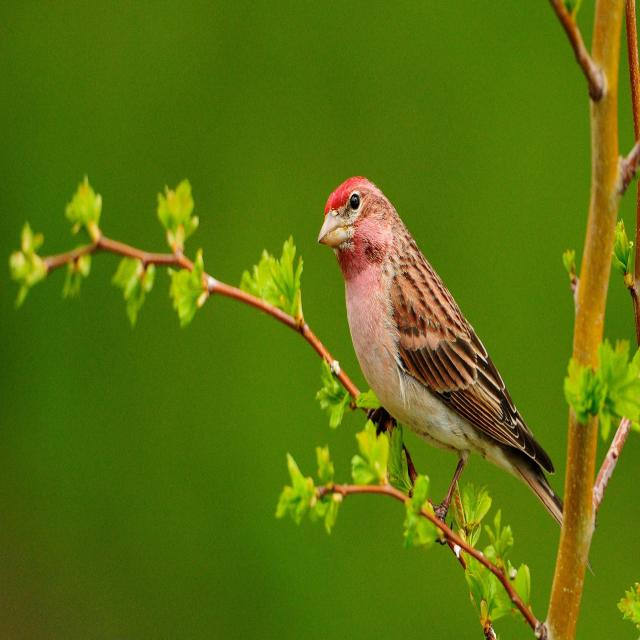bird: (318, 169, 556, 504)
